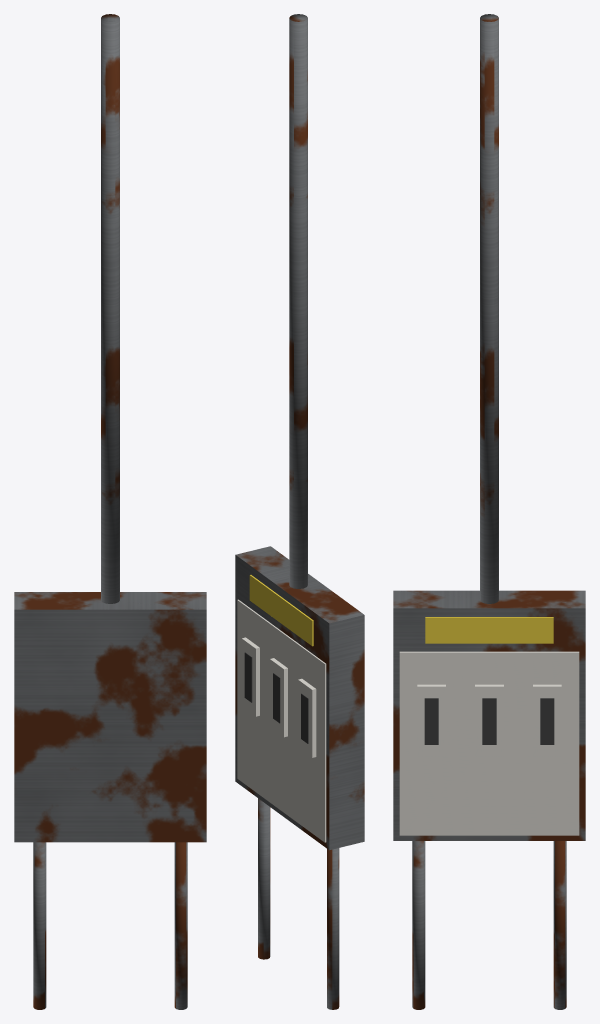
The model's file is SM_FusePanel.fbx.
The picture shows the model from 3 angles, left to right: view 1: azimuth 90°, elevation 25°; view 2: azimuth 210°, elevation 25°; view 3: azimuth 270°, elevation 25°; orthographic projection. The views are drawn at different scales.
Visible parts, largest first — view 1: SM_FusePanel; view 2: SM_FusePanel; view 3: SM_FusePanel.
Boxes of the visible parts, x1=… form: SM_FusePanel: x1=14, y1=14, x2=206, y2=1009; SM_FusePanel: x1=235, y1=14, x2=364, y2=1009; SM_FusePanel: x1=393, y1=14, x2=585, y2=1009.
Size of what is drawn, in the model's own units: 0.152 by 3.4 by 0.6.
Materials: 4 (1 with a texture image).
